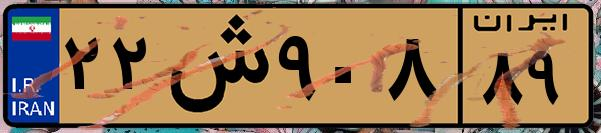0: (330, 28, 385, 110)
2: (57, 26, 110, 100), (110, 28, 158, 98)
8: (385, 28, 445, 110), (475, 38, 525, 113)
9: (270, 28, 330, 110), (525, 38, 570, 115)
ش: (158, 12, 270, 120)
